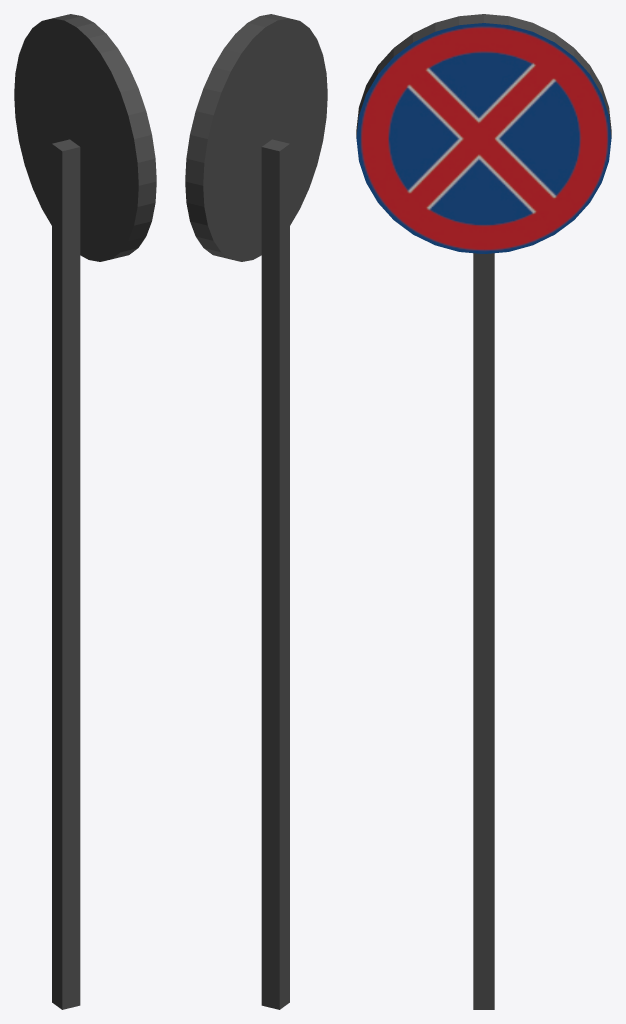
The model's file is dur_ve_park_yasak_levha.dae.
3 renders of one model, left to right at view 1: azimuth 30°, elevation 25°; view 2: azimuth 150°, elevation 25°; view 3: azimuth 270°, elevation 25°, orthographic. The views are drawn at different scales.
Visible parts, largest first — view 1: Cube.004, Cube.001; view 2: Cube.004, Cube.001; view 3: Cube.001, Cube.004.
Part boxes in pixels (left/top/right/bottom): Cube.004: left=52, top=139, right=80, bottom=1009; Cube.001: left=14, top=14, right=156, bottom=261; Cube.004: left=261, top=139, right=289, bottom=1009; Cube.001: left=185, top=14, right=327, bottom=261; Cube.001: left=356, top=14, right=611, bottom=253; Cube.004: left=473, top=253, right=494, bottom=1009.
Size of the model in its own units: 0.1039 by 0.6 by 2.59.
Materials: 2 (1 with a texture image).
